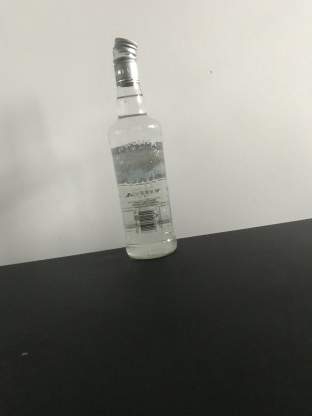nakretka: (111, 34, 141, 88)
